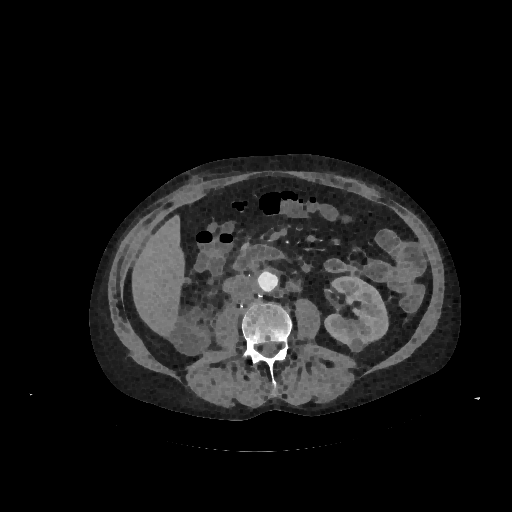Lesion: (346, 335, 369, 354)
